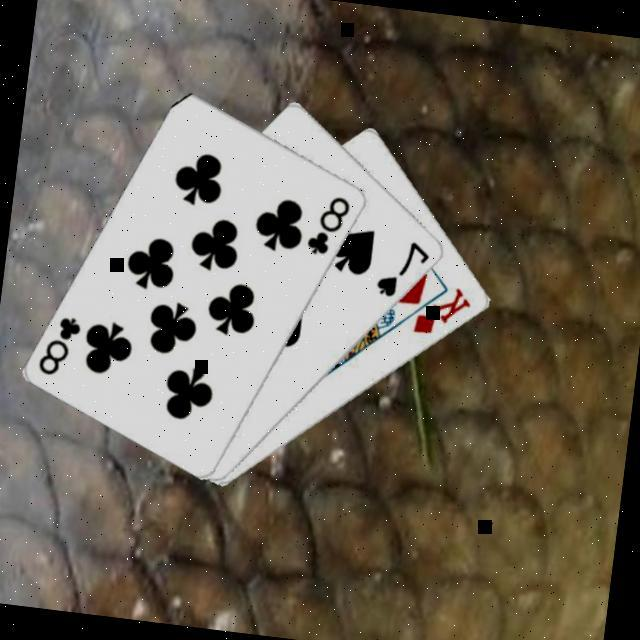7S: (371, 232, 434, 302)
8C: (301, 187, 354, 259), (34, 307, 86, 379)
KD: (409, 277, 476, 340)
